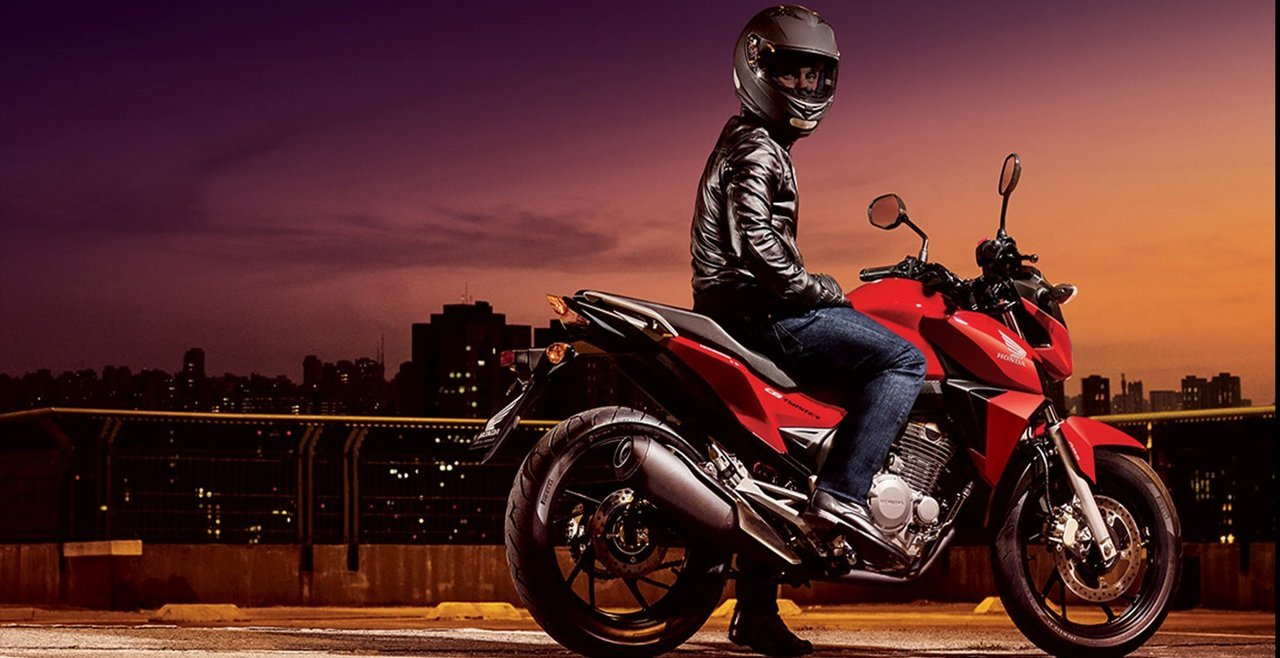helmet: (741, 14, 841, 135)
